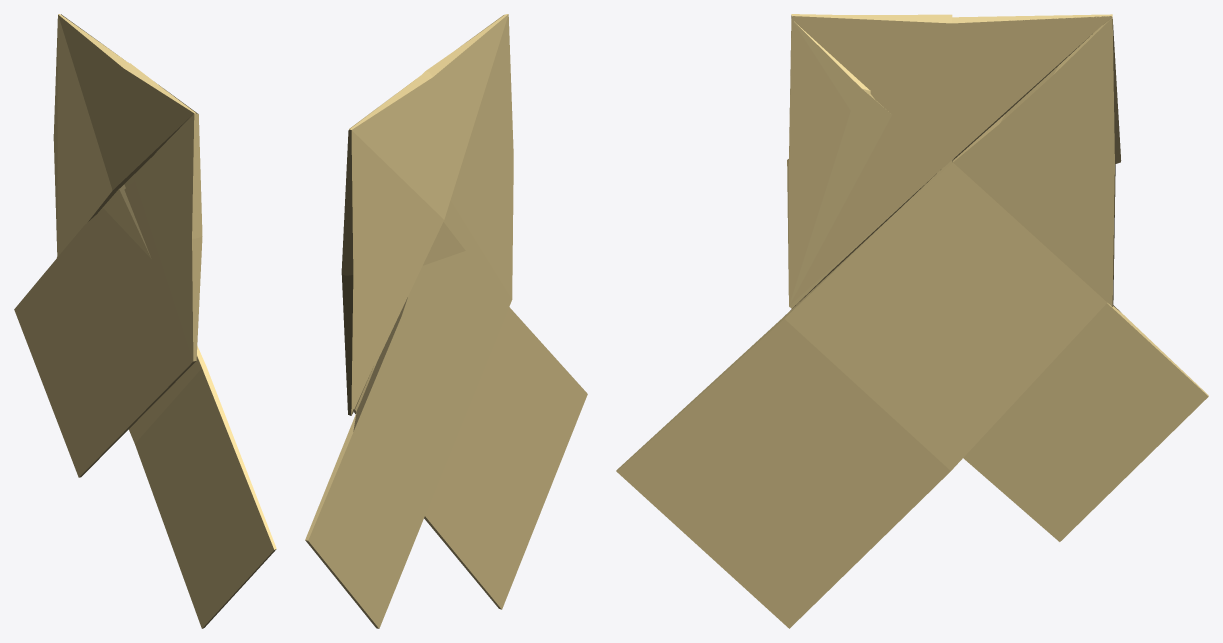
Rendered from memo_close.fbx.
3 renders of one model, left to right at view 1: azimuth 30°, elevation 25°; view 2: azimuth 150°, elevation 25°; view 3: azimuth 270°, elevation 25°, orthographic. The views are drawn at different scales.
Visible parts, largest first — view 1: Plane; view 2: Plane; view 3: Plane.
Part boxes in pixels (box(x1,y1,x2,y2)): Plane: box(14, 14, 276, 628); Plane: box(305, 14, 587, 628); Plane: box(616, 14, 1208, 628).
Size of the model in its own units: 20.66 by 420 by 370.
